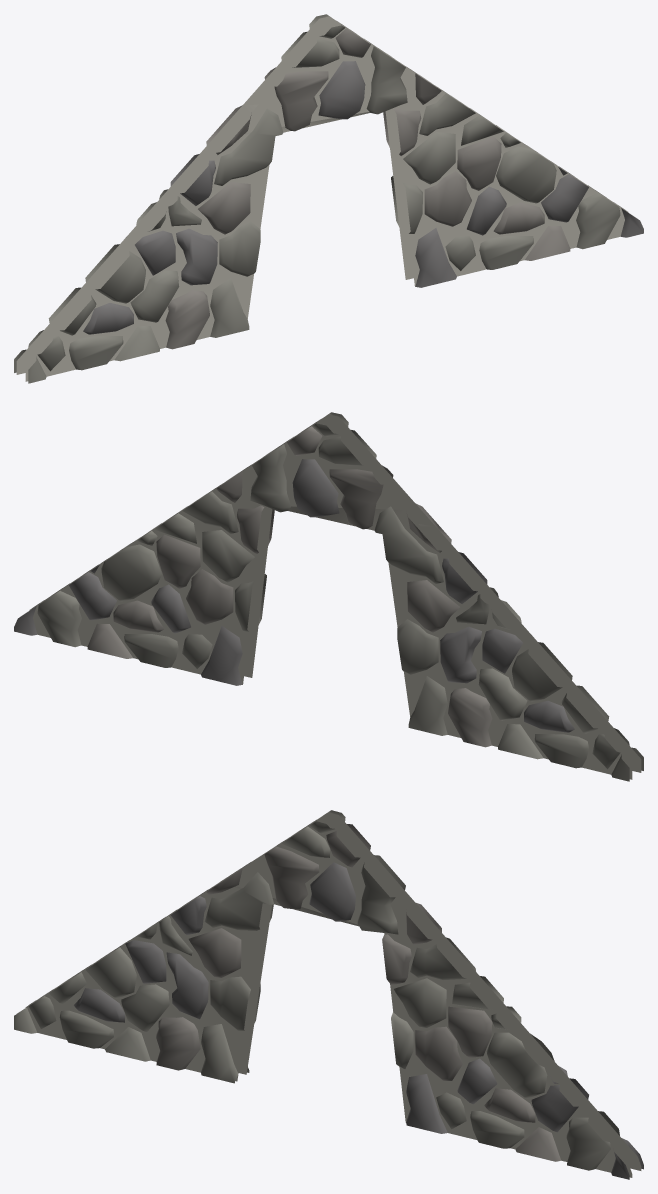
File: rpgpp_ag_roof_end_01_9x4_wall_door_04b.fbx
3 views of the same model, one above another, from view 1: azimuth 30°, elevation 25°; view 2: azimuth 150°, elevation 25°; view 3: azimuth 330°, elevation 25° (orthographic).
Visible parts, largest first — view 1: rpgpp_ag_roof_end_01_9x4_wall_door_04b; view 2: rpgpp_ag_roof_end_01_9x4_wall_door_04b; view 3: rpgpp_ag_roof_end_01_9x4_wall_door_04b.
Boxes of the visible parts, x1,y1,x2,y2 form: rpgpp_ag_roof_end_01_9x4_wall_door_04b: (14, 14, 643, 383); rpgpp_ag_roof_end_01_9x4_wall_door_04b: (14, 412, 643, 781); rpgpp_ag_roof_end_01_9x4_wall_door_04b: (14, 810, 643, 1179).
Bounding box in the file's own units: 9 × 3.95 × 0.404.
